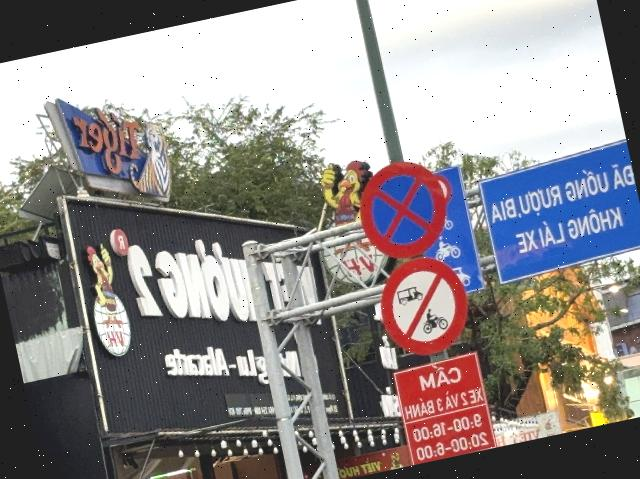cam-dung-va-do-xe: (348, 151, 457, 267)
cam-xe-2-banh-3-banh: (373, 248, 477, 362)
